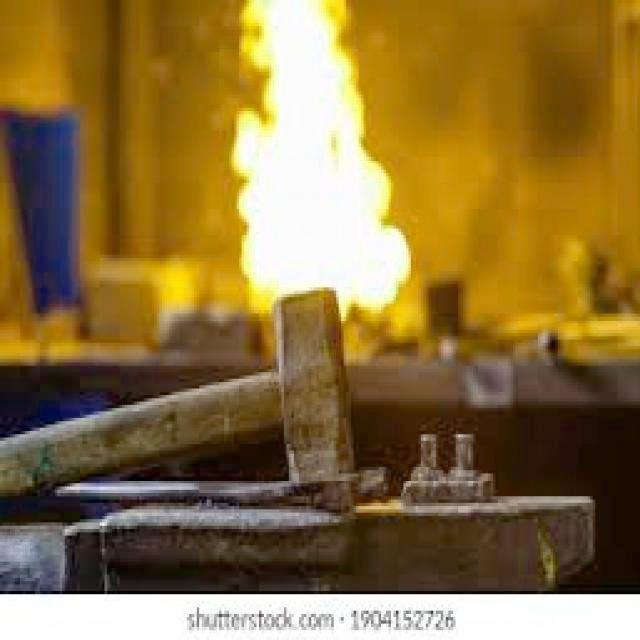hammer: (2, 261, 391, 539)
